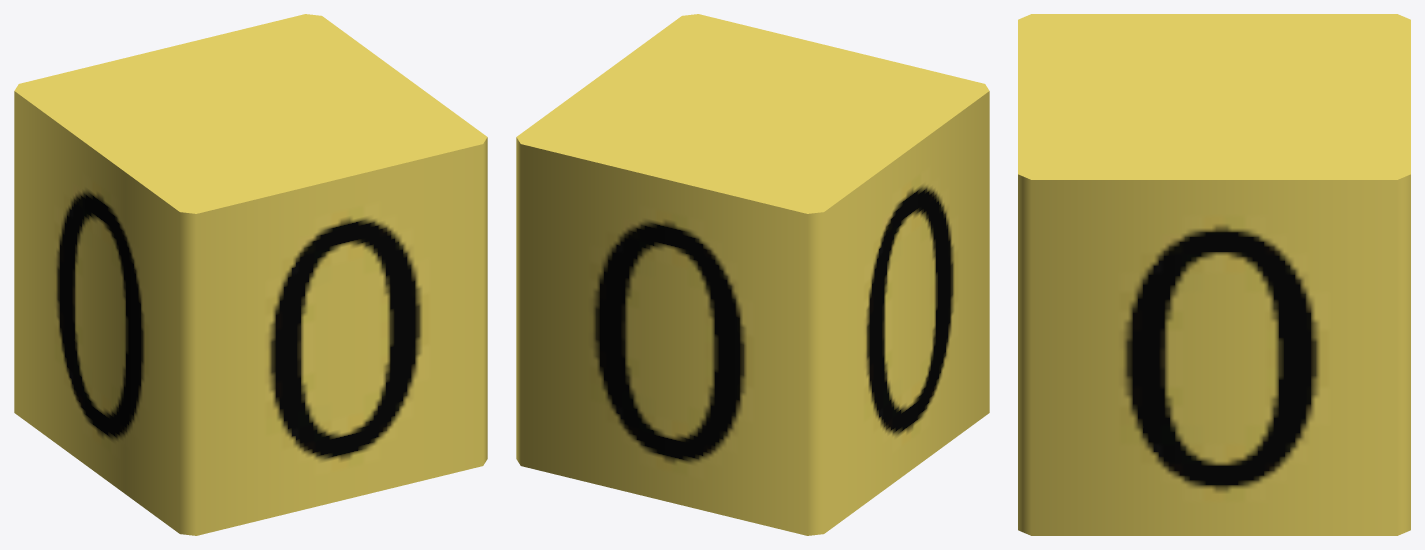
The model's file is block0.dae.
3 views of the same model, side by side, from view 1: azimuth 30°, elevation 25°; view 2: azimuth 150°, elevation 25°; view 3: azimuth 270°, elevation 25° (orthographic). The views are drawn at different scales.
Visible parts, largest first — view 1: pCube23; view 2: pCube23; view 3: pCube23.
Boxes of the visible parts, x1=… form: pCube23: x1=14, y1=14, x2=487, y2=535; pCube23: x1=516, y1=14, x2=989, y2=535; pCube23: x1=1018, y1=14, x2=1410, y2=535.
Size of the model in its own units: 0.4263 by 0.4263 by 0.4263.
1 material, 1 textured.
